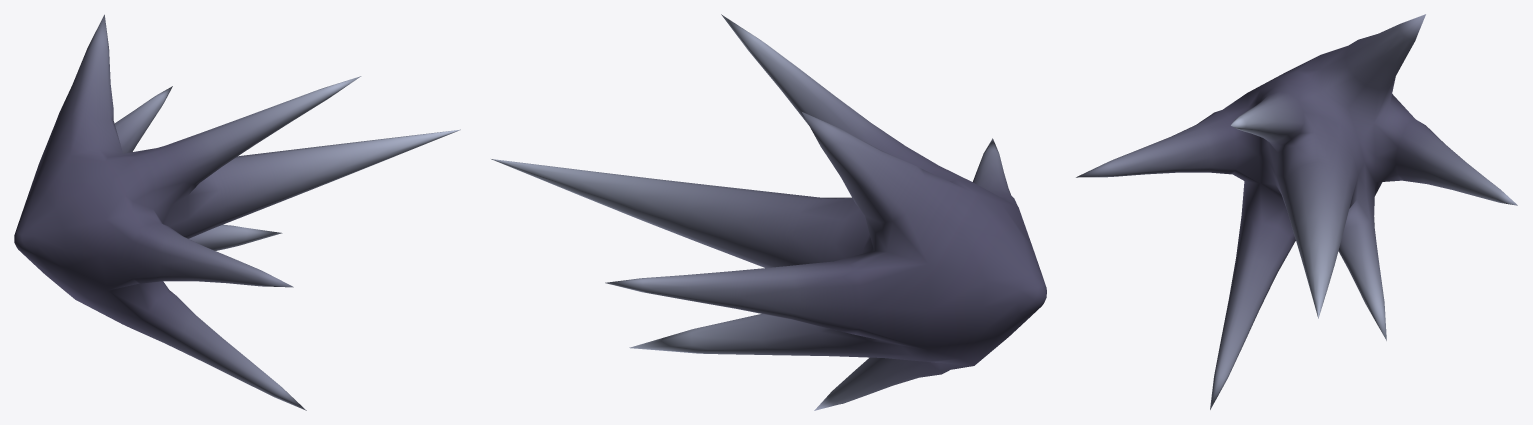
File: SM_Ice_Spikes.gltf
The picture shows the model from 3 angles, left to right: view 1: azimuth 30°, elevation 25°; view 2: azimuth 150°, elevation 25°; view 3: azimuth 270°, elevation 25°; orthographic projection. The views are drawn at different scales.
Parts seen in each view (by area): view 1: SM_Ice_Spikes; view 2: SM_Ice_Spikes; view 3: SM_Ice_Spikes.
Boxes of the visible parts, x1=… form: SM_Ice_Spikes: x1=14, y1=14, x2=460, y2=410; SM_Ice_Spikes: x1=491, y1=14, x2=1046, y2=410; SM_Ice_Spikes: x1=1076, y1=14, x2=1517, y2=409.
Size of the model in its own units: 1.01 by 0.7391 by 0.8499.
Materials: 1 (1 with a texture image).
